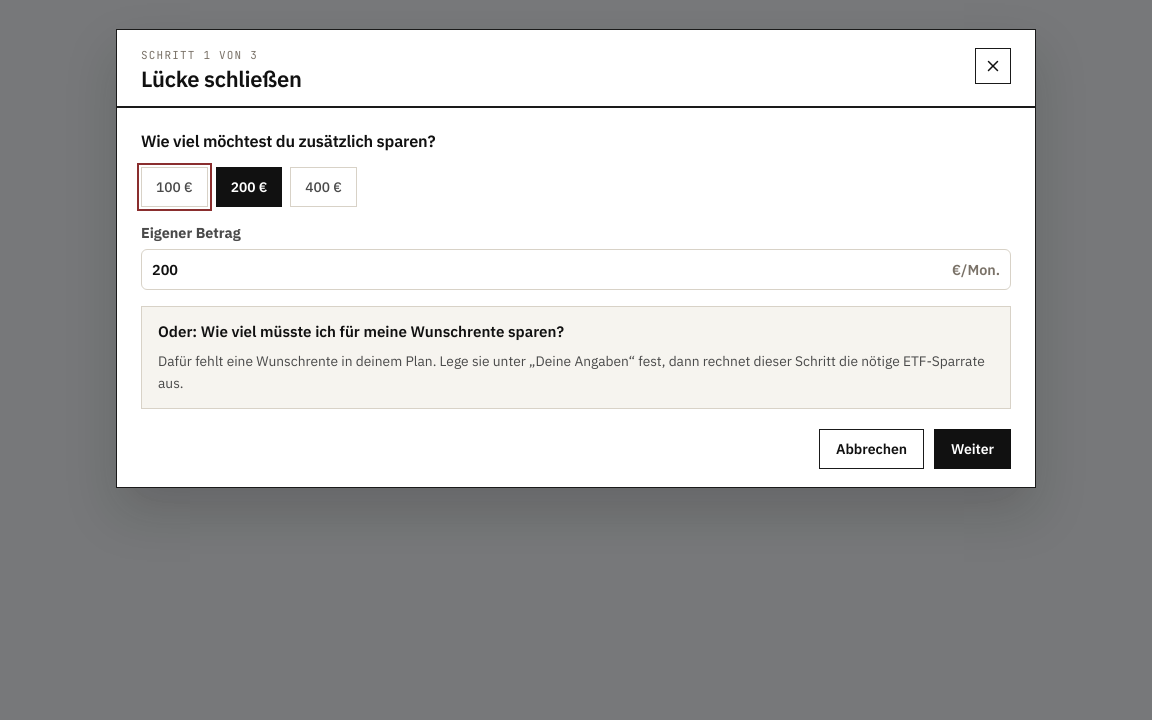
Scenario: LueckeSchliessenModal › points to Mein Plan → Gespeicherte Alternativen and keeps the main plan untouched
This screenshot has width=1152, height=720.
Step 1. Click the button "Weiter" → (972, 449), box [934,429,1011,469]
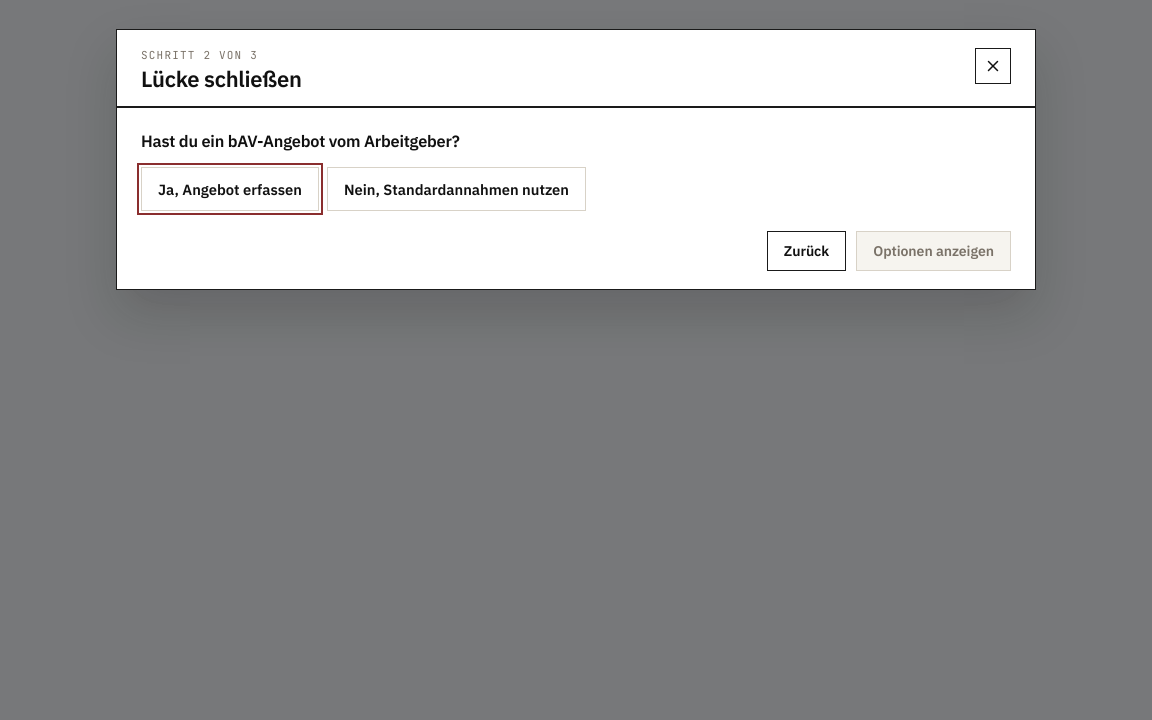
Step 2. Click the button "Nein, Standardannahmen nutzen" → (456, 189), box [327,167,586,211]
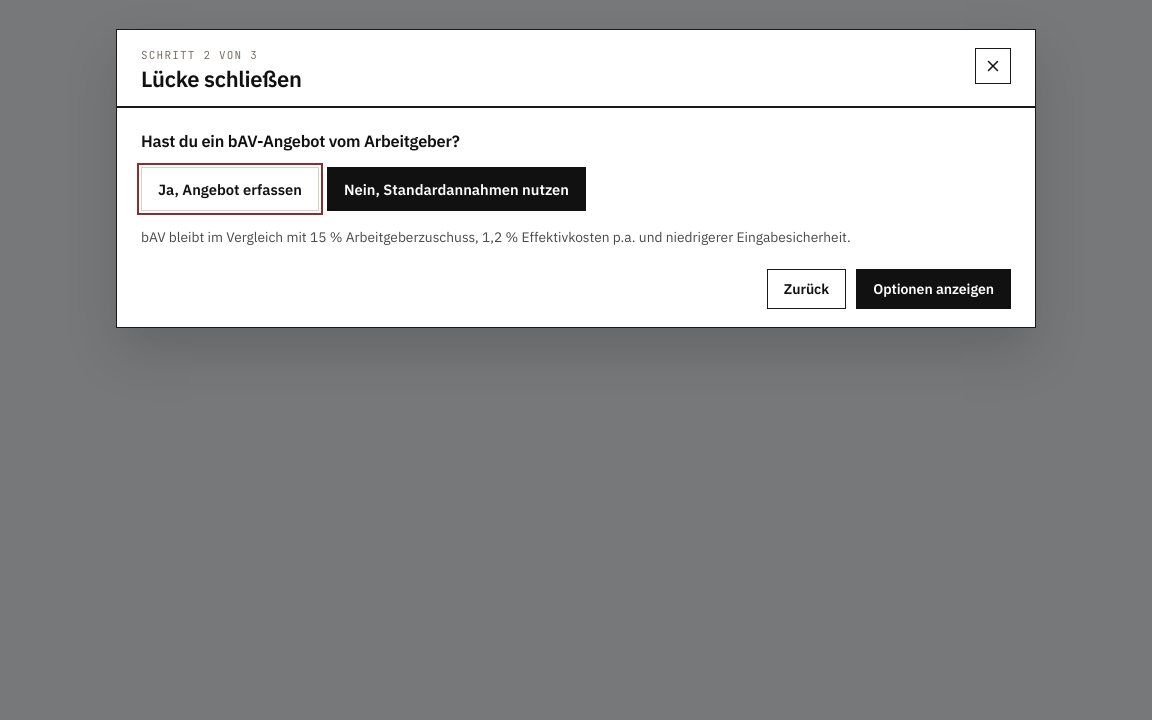
Step 3. Click the button "Optionen anzeigen" → (934, 288), box [856,268,1011,308]
(page scrolled)
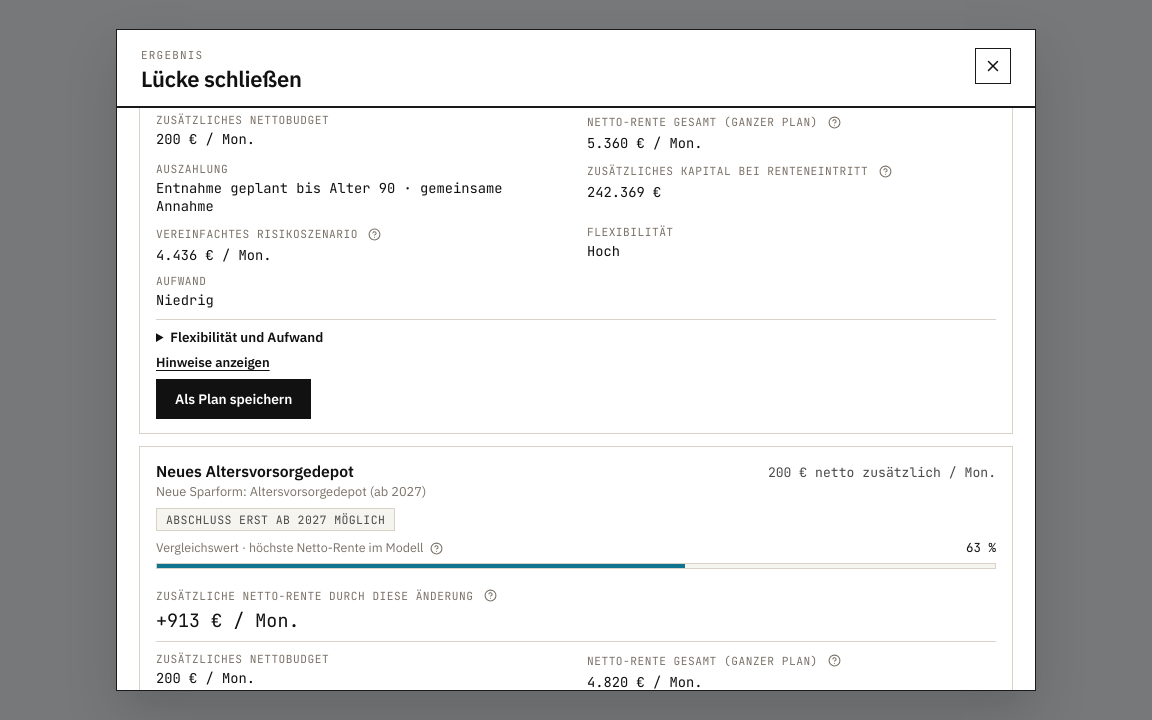
Step 4. Click the button with class "recommender-candidate-save" → (234, 399), box [156,379,311,419]
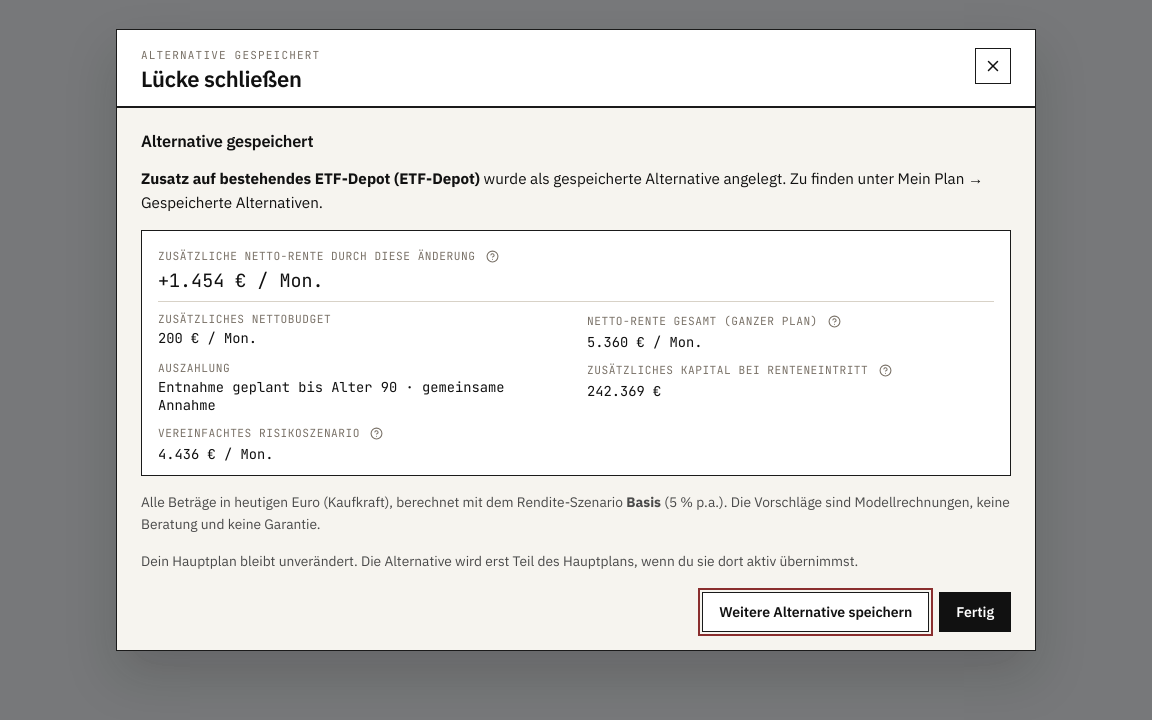
expect the message with class "luecke-modal__body--saved" shows "Mein Plan → Gespeicherte Alternativen": met, box [141,168,983,212]
expect the text with class "rw-modal-slot__eyebrow" reads "Alternative gespeichert": met, box [141,48,320,62]
